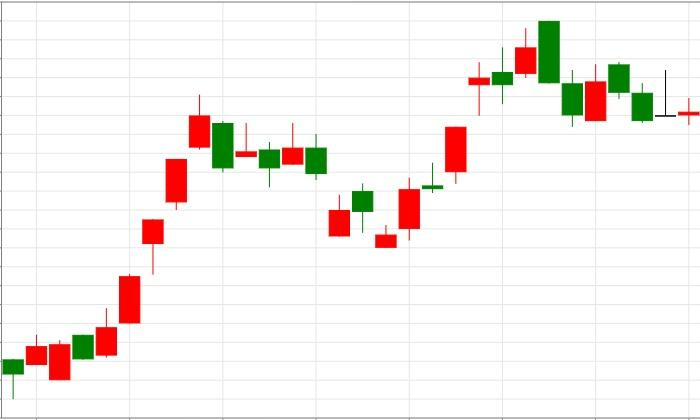bearish_engulfing_fall: (375, 21, 560, 248)
